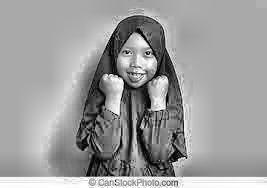happy: (109, 22, 161, 94)
